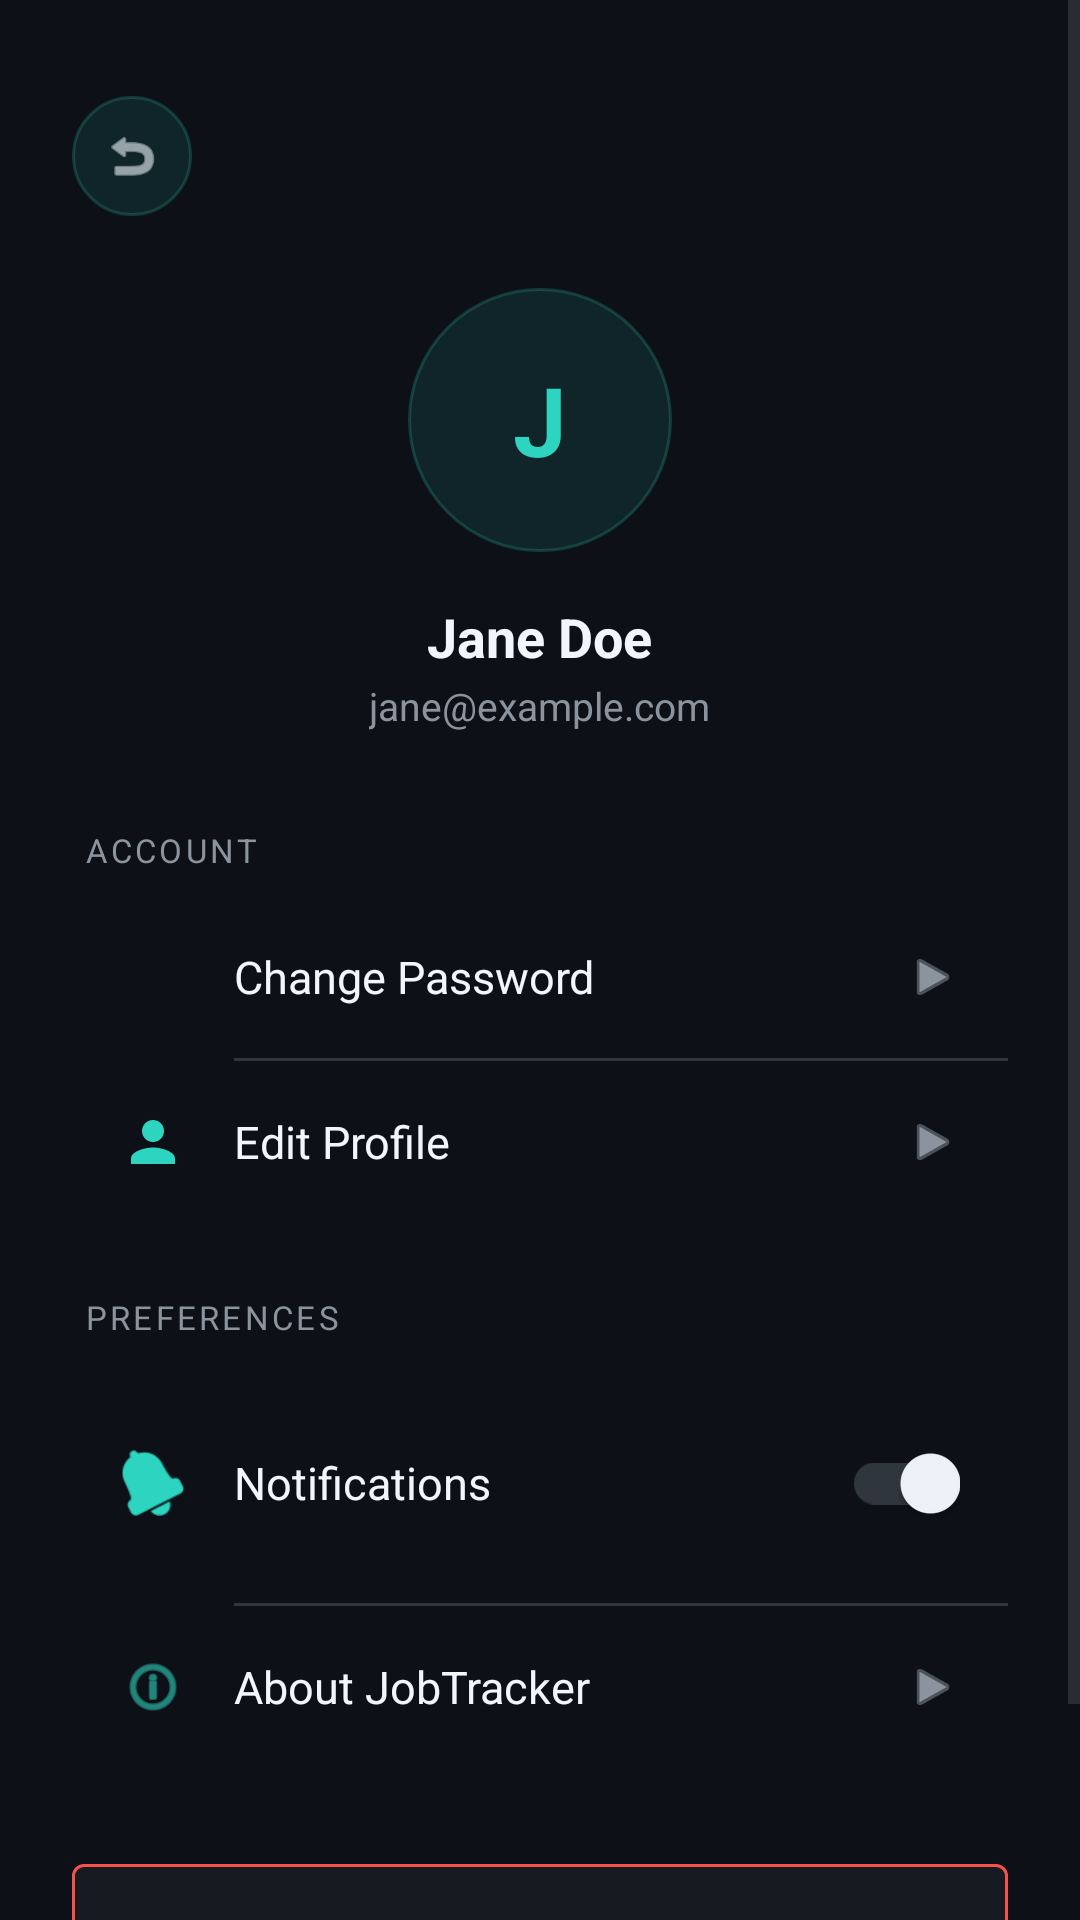

Locate icon controls on the screen. Image size 1080*1920, boxes as (x1, y1, x2, y2).
Back: (72, 96, 192, 216)
info details: (129, 1663, 177, 1711)
person: (131, 1120, 175, 1164)
play: (917, 959, 949, 995), (917, 1124, 949, 1160), (917, 1669, 949, 1705)
popup reminder: (122, 1450, 184, 1516)
